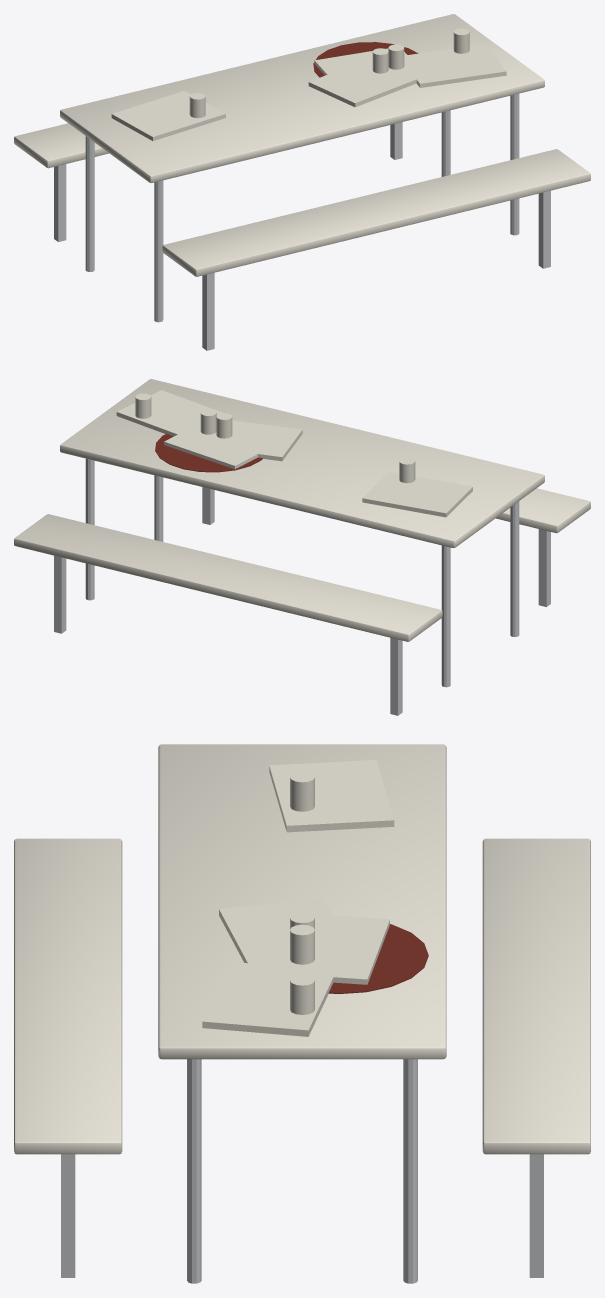
Rendered from cafeteria_table.glb.
3 views of the same model, one above another, from view 1: azimuth 30°, elevation 25°; view 2: azimuth 150°, elevation 25°; view 3: azimuth 270°, elevation 25° (orthographic). The views are drawn at different scales.
Visible parts, largest first — view 1: cafeteria_table; view 2: cafeteria_table; view 3: cafeteria_table.
Part boxes in pixels (x1,y1,x2,y2): cafeteria_table: (14, 14, 590, 350); cafeteria_table: (14, 379, 590, 715); cafeteria_table: (14, 744, 590, 1283).
Size of what is drawn, in the model's own units: 2 by 0.88 by 1.6.
